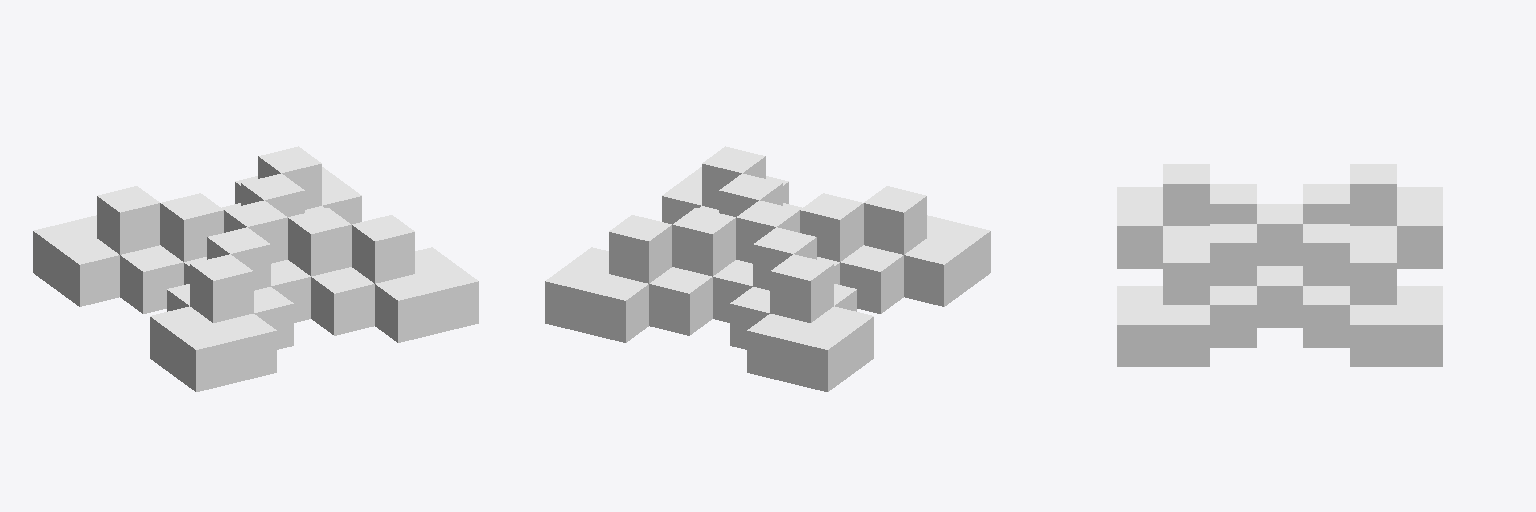
Rendered from buttonShape_close.obj.
3 views of the same model, side by side, from view 1: azimuth 30°, elevation 25°; view 2: azimuth 150°, elevation 25°; view 3: azimuth 270°, elevation 25° (orthographic).
Bounding box in the file's own units: 7 × 2 × 7.